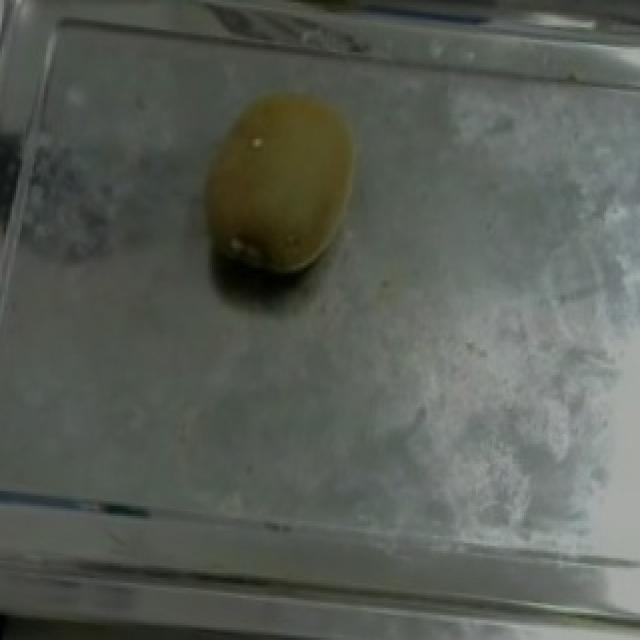Fruit: (174, 70, 380, 298)
